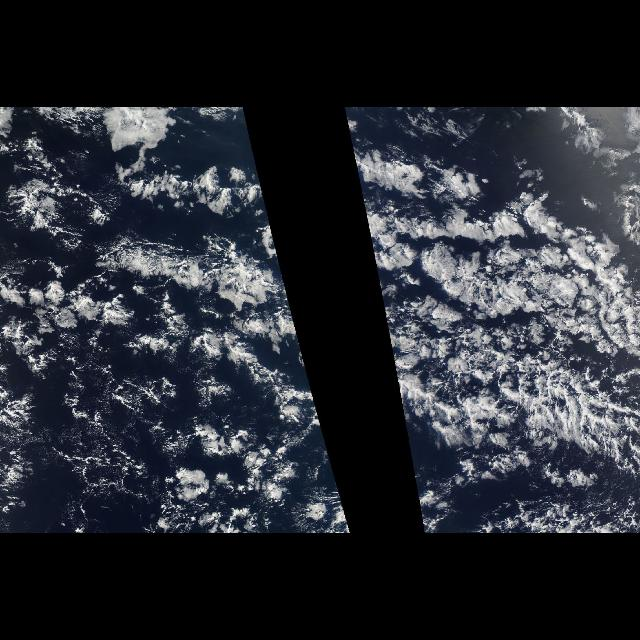Flower: (8, 242, 312, 520)
Gravel: (21, 290, 283, 508)
Sugar: (5, 324, 131, 520)
